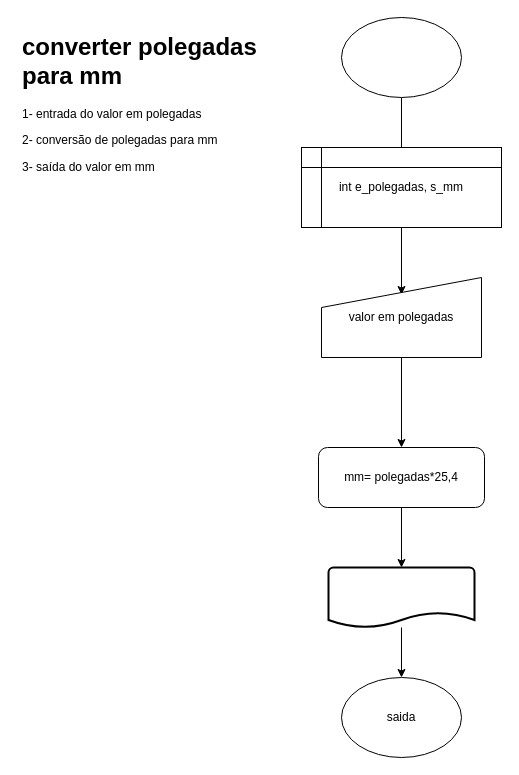
The diagram is 519 pixels wide and 775 high, and some of its shapes have lost their labels. The shapes that lost their labels are listed below. From the top down, each one's centre as x and y in pixels, then its label:
At (x=401, y=57): "inicio".
At (x=401, y=597): "mm".
